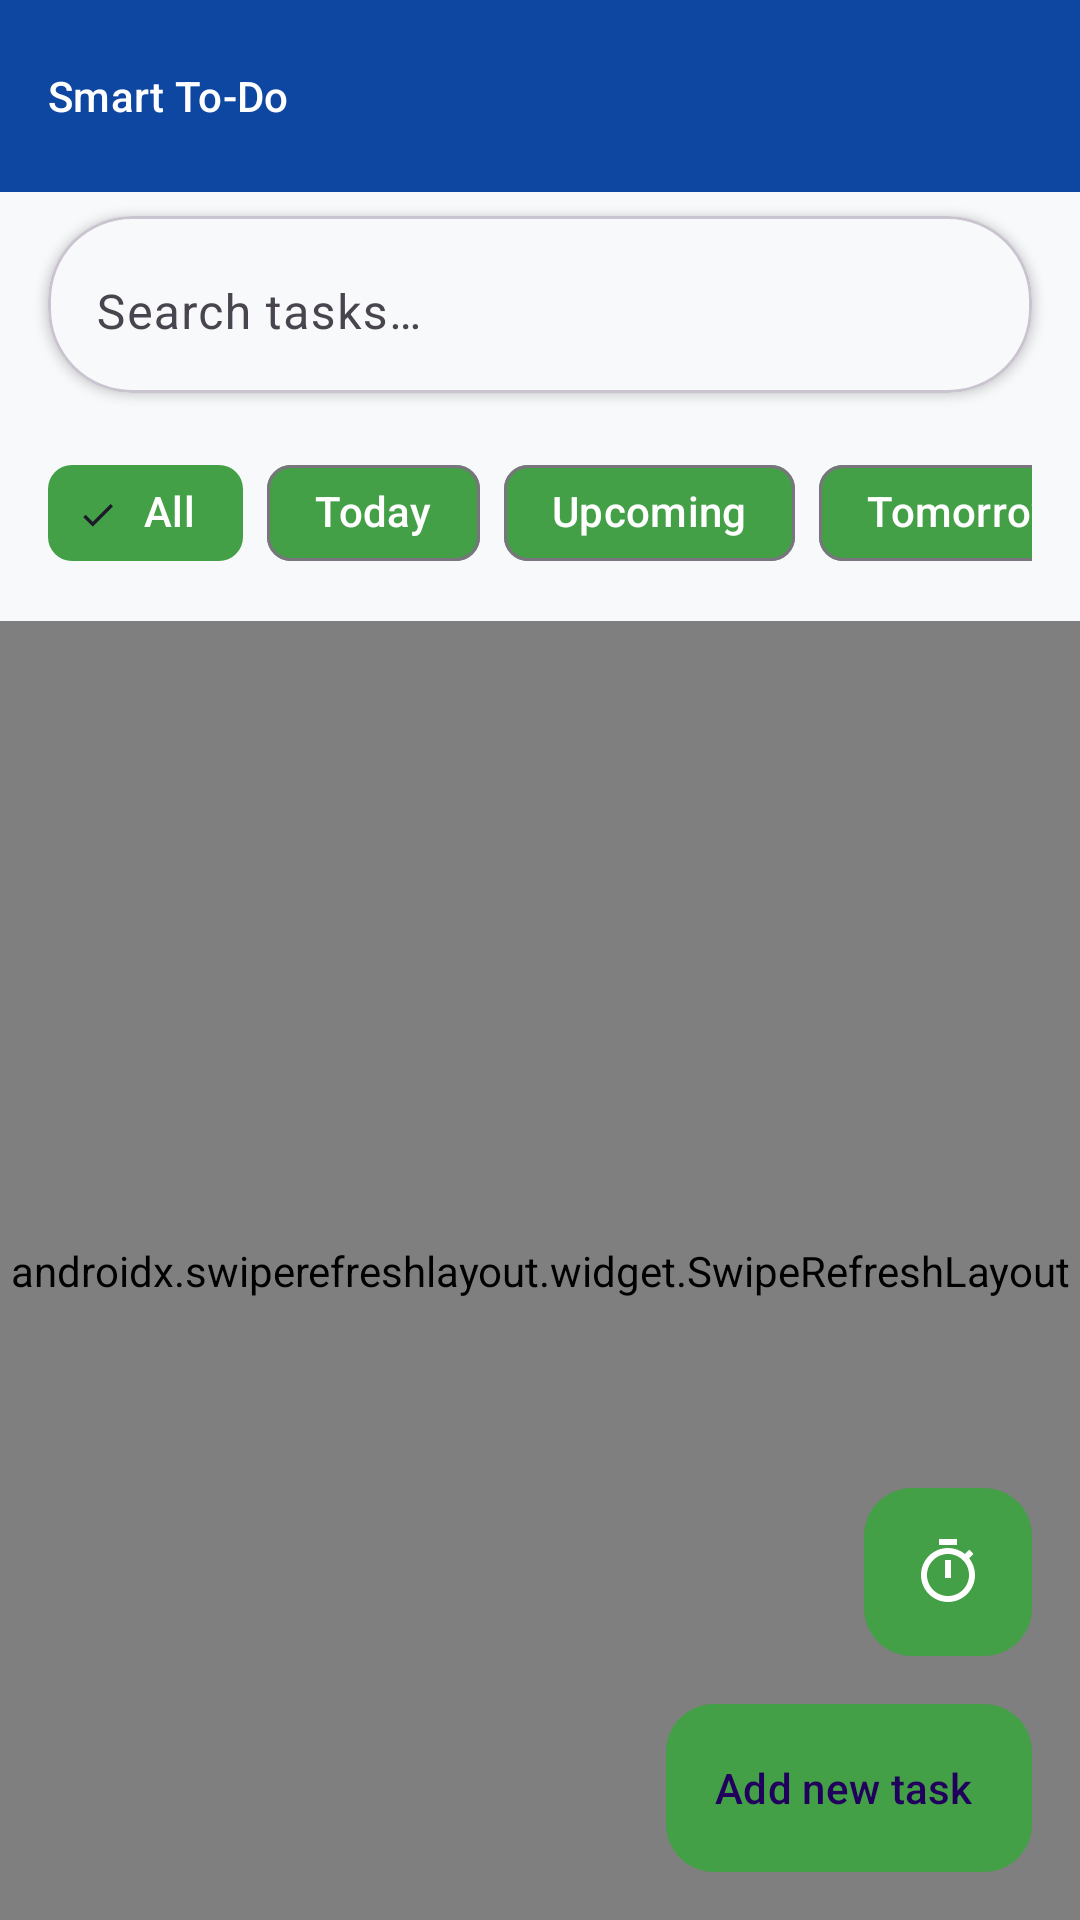

Screen size 1080 x 1920. Icon name, then its box in pixels as (x1, y1, x2, y2):
Pomodoro Timer: (864, 1488, 1032, 1656)
